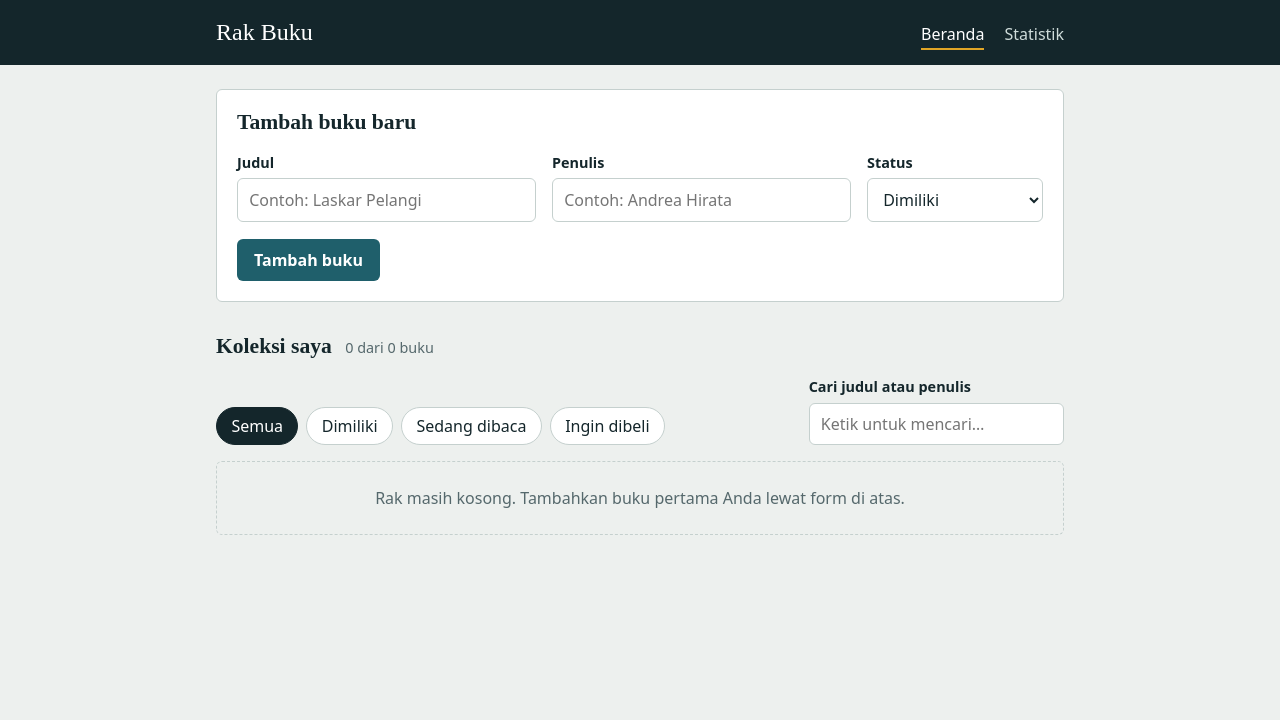
Aplikasi Manajemen Buku (integrasi) › menambah buku baru ke daftar dan menyimpannya di localStorage
Type "Pulang" into the field labelled "Judul".
click(386, 200); type("Pulang")  # box [237,178,536,222]
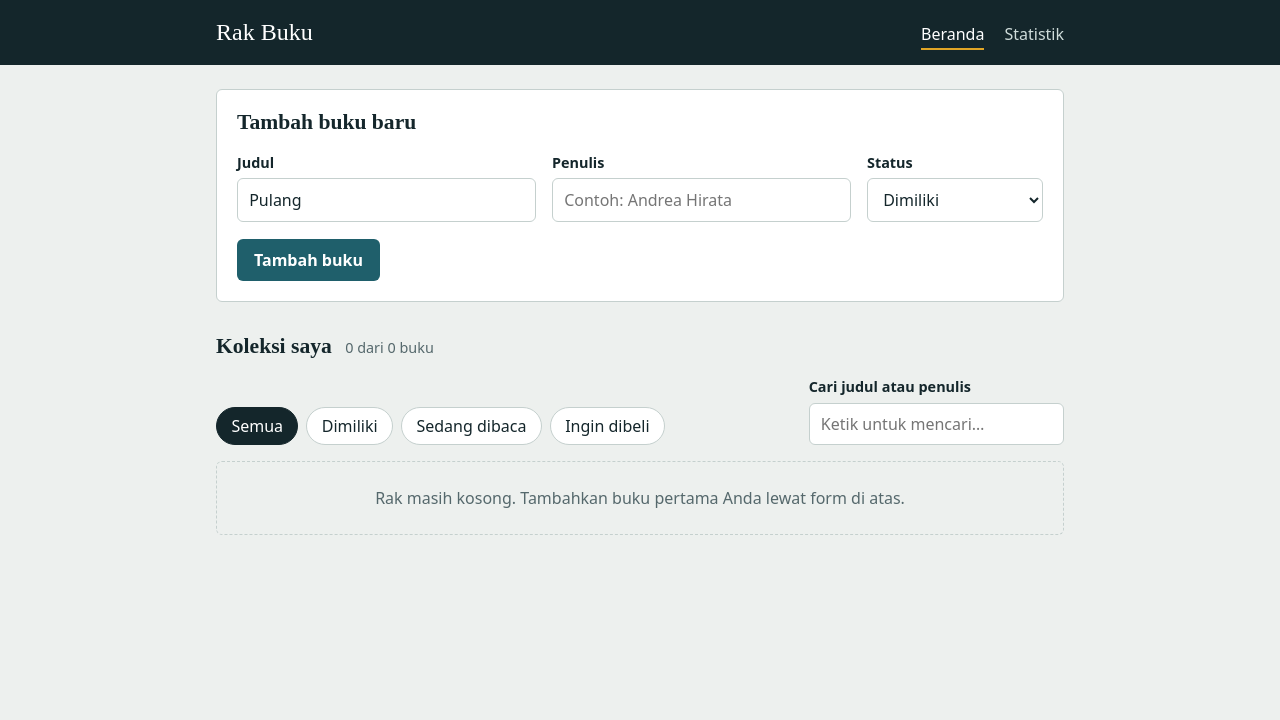
Type "Leila S. Chudori" into the field labelled "Penulis".
click(702, 200); type("Leila S. Chudori")  # box [552,178,851,222]
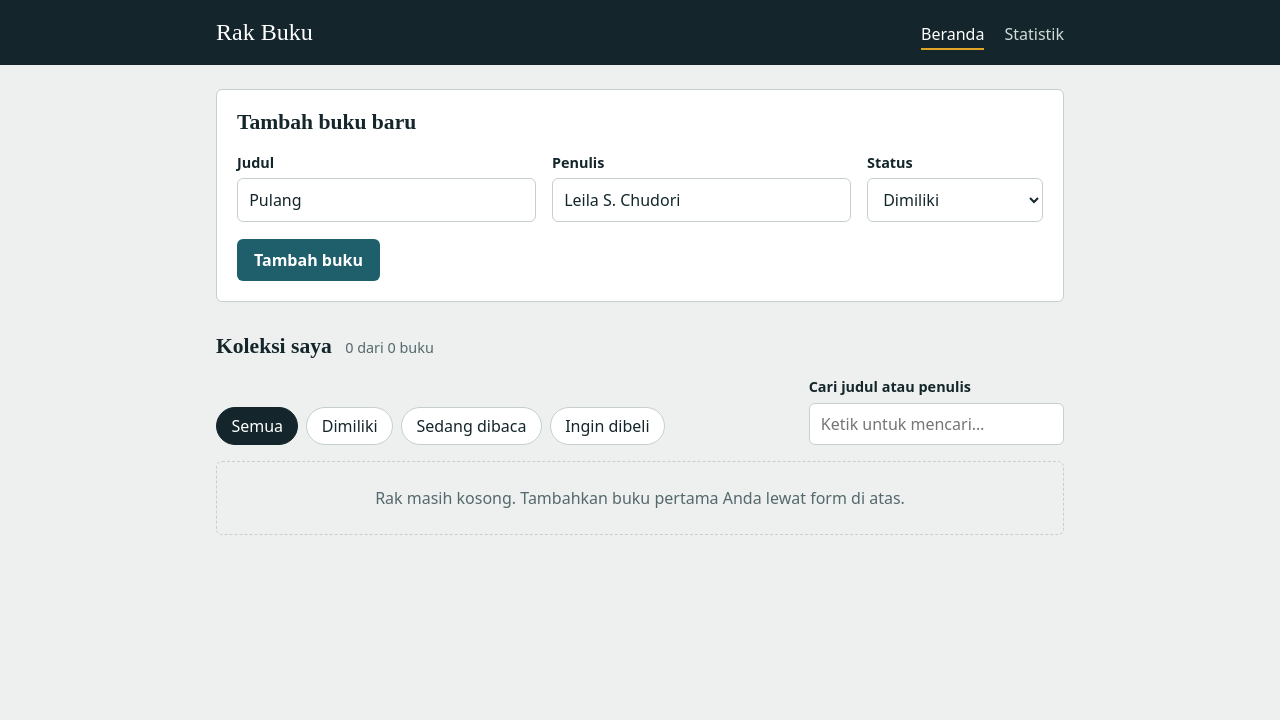
Click the button "Tambah buku".
click(308, 260)  # box [237,239,380,281]
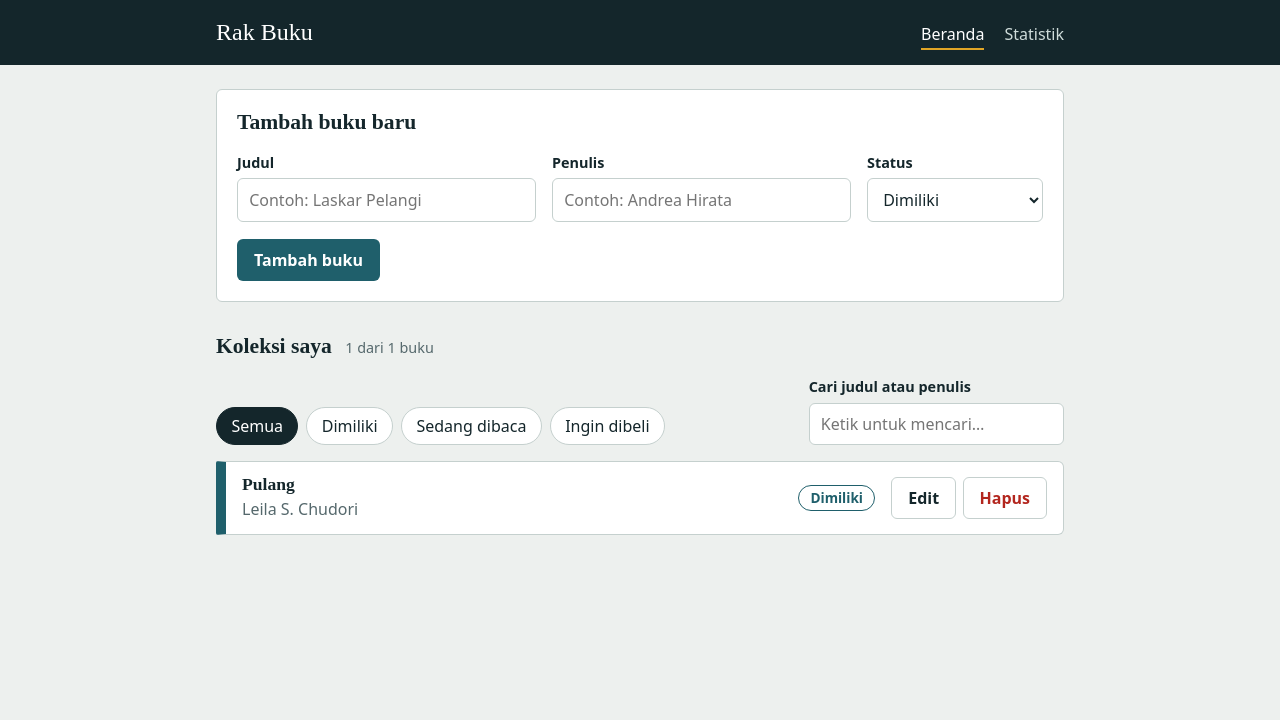
Check: the heading "Pulang" is shown, box [242,474,295,494]
